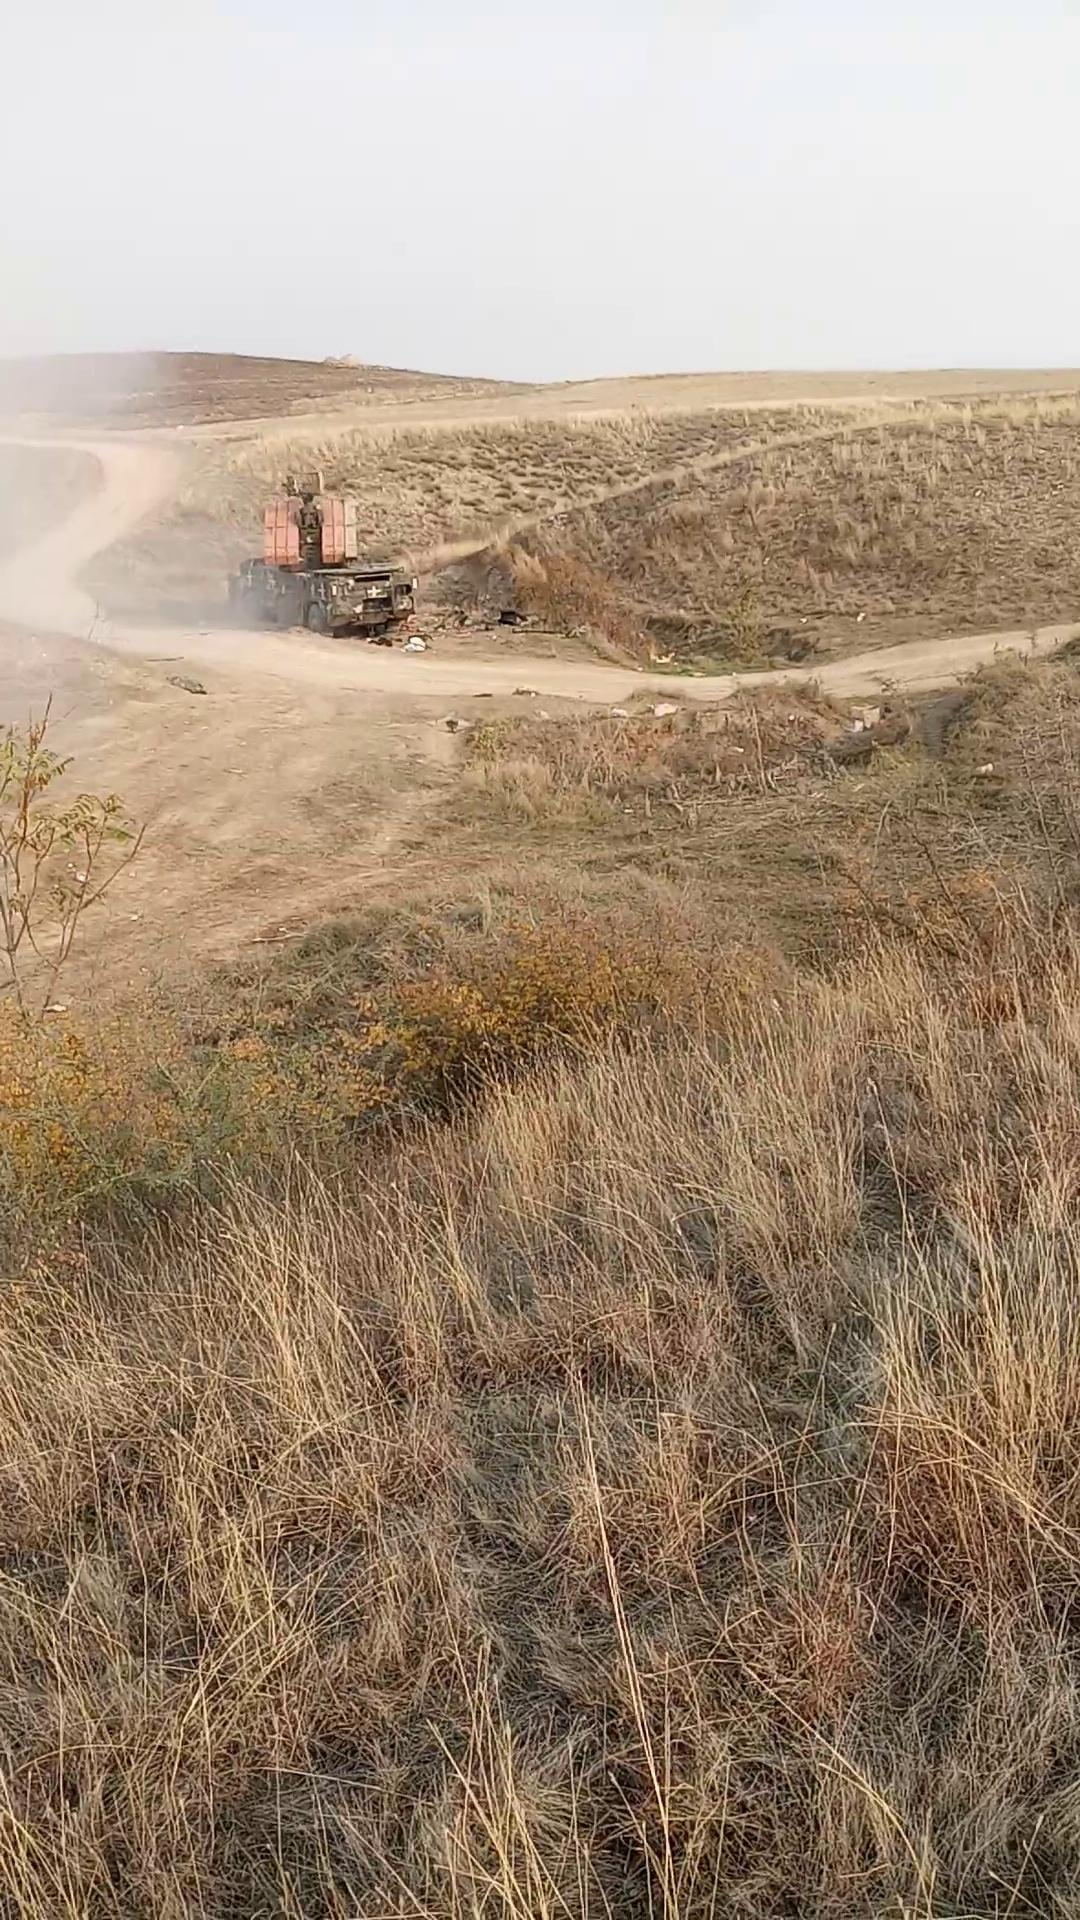MIL_SAM_TEL: (224, 459, 423, 642)
